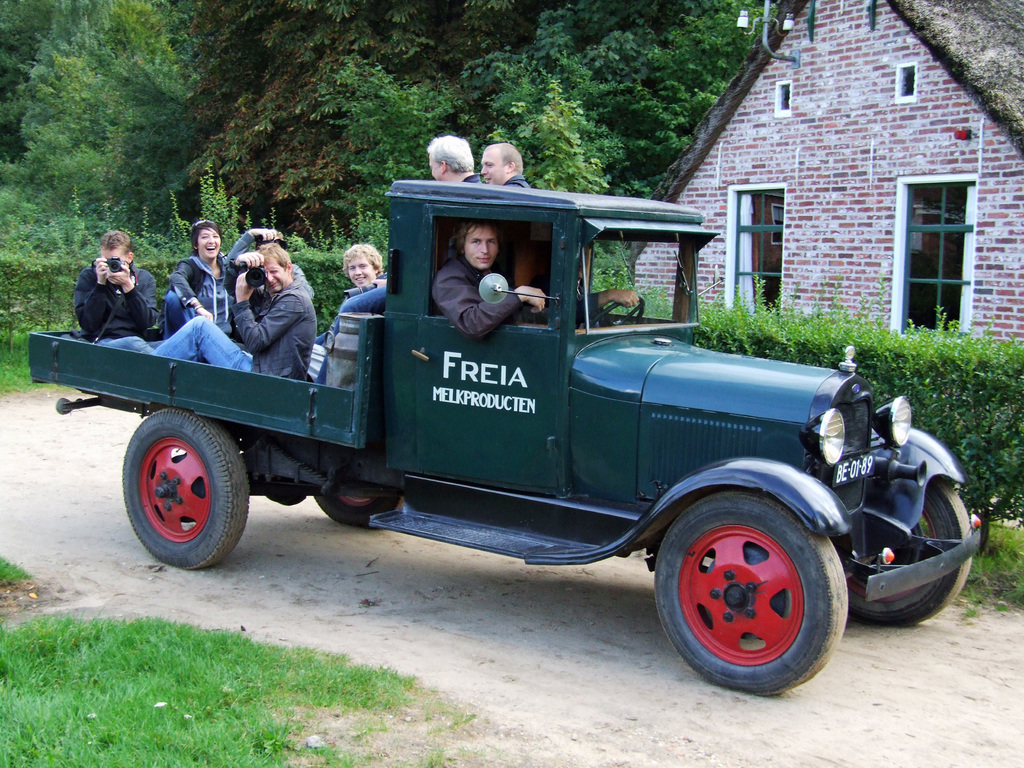person: (513, 233, 644, 330)
